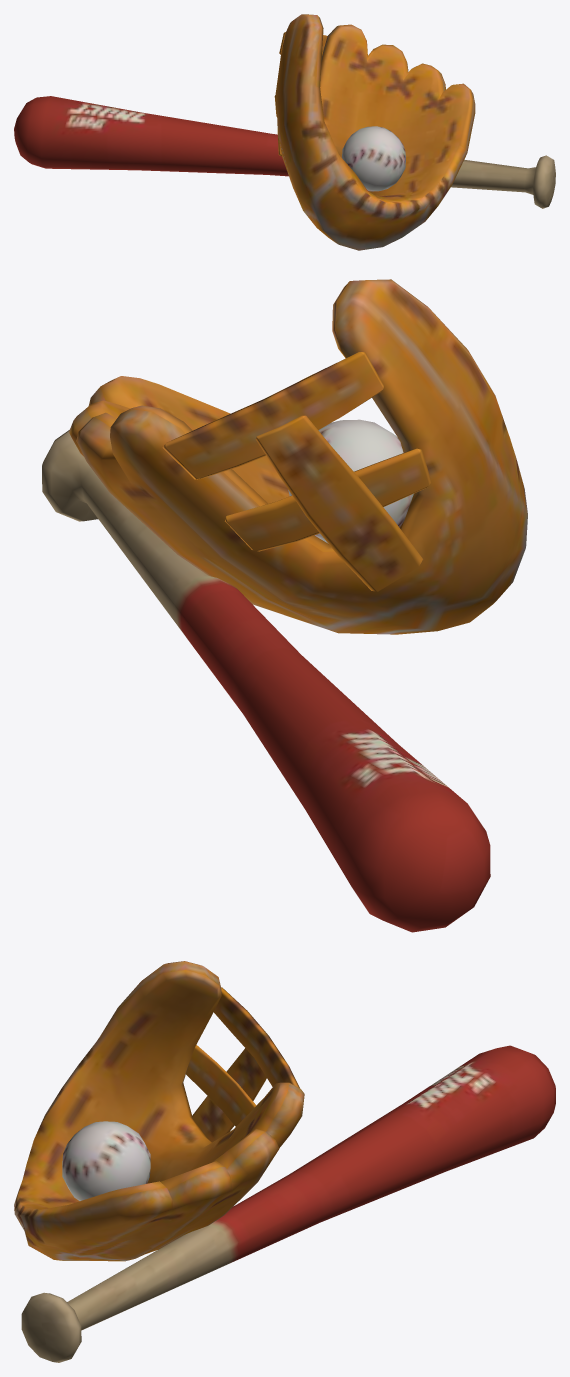
The picture shows the model from 3 angles, top to bottom: view 1: azimuth 30°, elevation 25°; view 2: azimuth 150°, elevation 25°; view 3: azimuth 270°, elevation 25°; orthographic projection. The views are drawn at different scales.
Size of the model in its own units: 8.92 by 4.54 by 8.08.
1 material, 1 textured.
